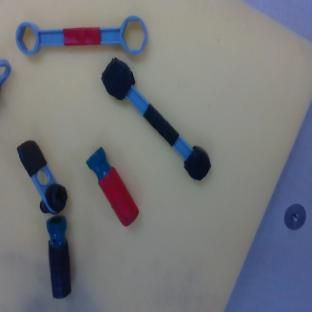part_1_bad: (8, 135, 74, 219)
part_1_good: (0, 59, 11, 90)
part_2_bad: (46, 216, 72, 298)
part_2_good: (83, 146, 143, 228)
part_3_bad: (93, 54, 218, 186)
part_3_good: (16, 16, 147, 54)
